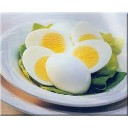begg: (49, 55, 91, 96), (26, 30, 72, 54)
